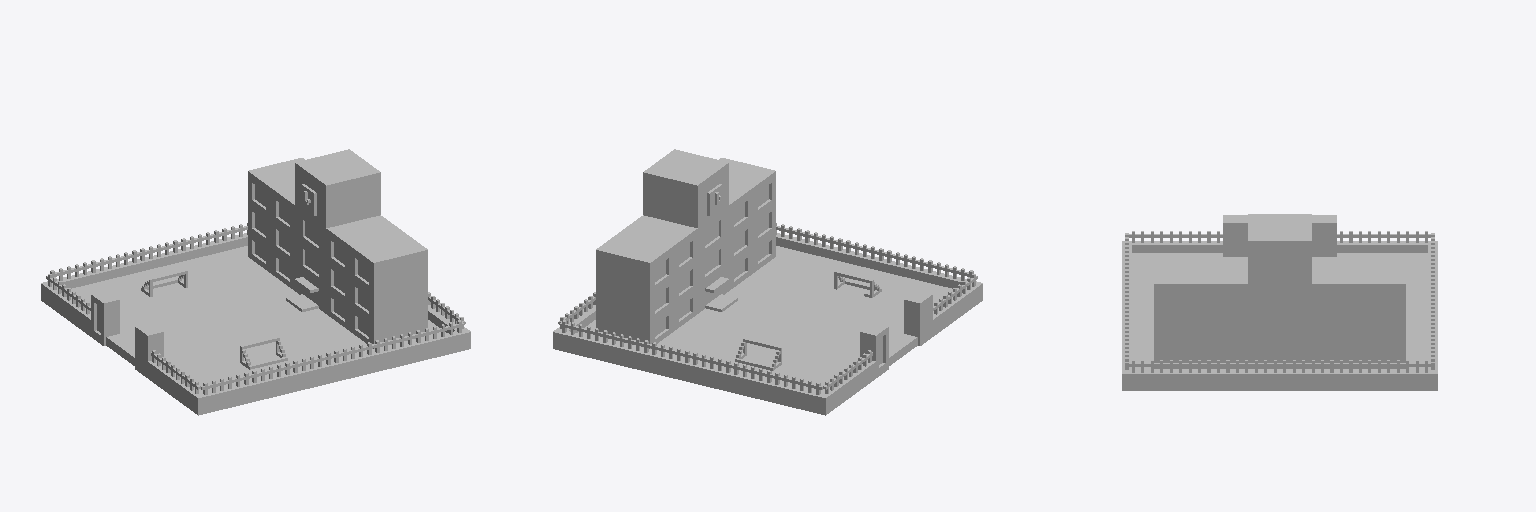
The model's file is School.obj.
3 renders of one model, left to right at view 1: azimuth 30°, elevation 25°; view 2: azimuth 150°, elevation 25°; view 3: azimuth 270°, elevation 25°, orthographic.
Size of the model in its own units: 100 by 48 by 100.